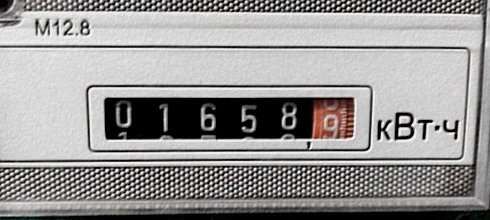0: (113, 98, 134, 128)
1: (156, 101, 174, 133)
5: (239, 102, 260, 133)
6: (198, 99, 219, 133)
8: (279, 99, 300, 131)
9: (320, 112, 341, 141)
screen: (77, 74, 378, 160)
